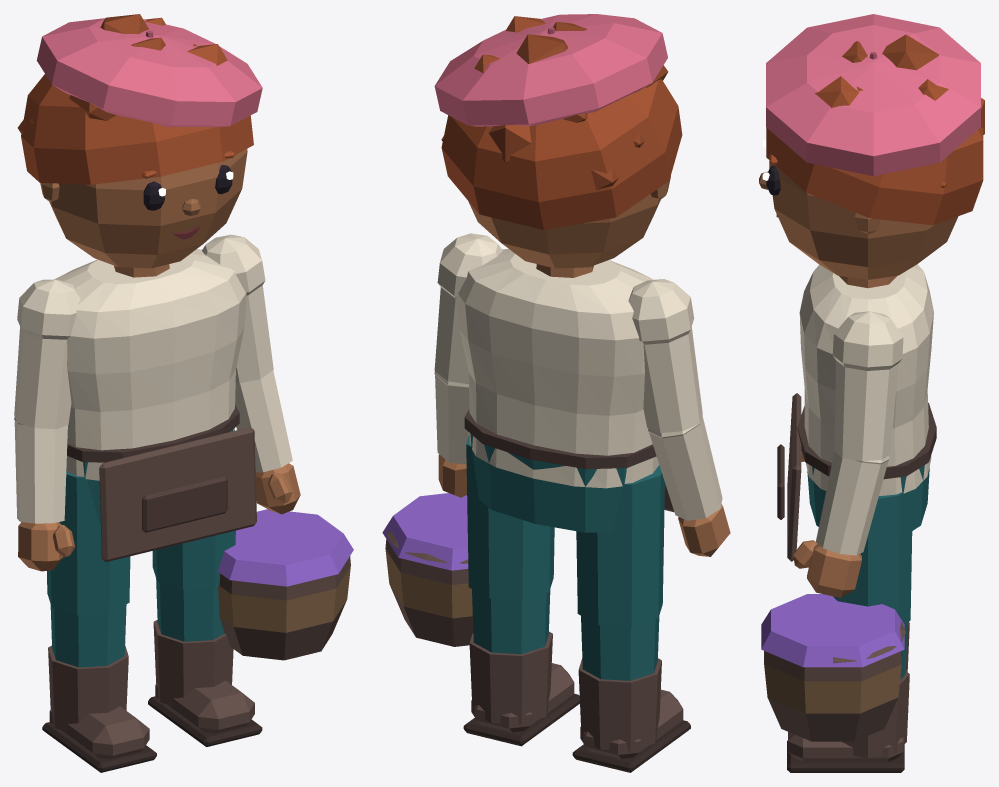
Rendered from spo-k1.glb.
3 renders of one model, left to right at view 1: azimuth 30°, elevation 25°; view 2: azimuth 150°, elevation 25°; view 3: azimuth 270°, elevation 25°, orthographic. The views are drawn at different scales.
Visible parts, largest first — view 1: torso, schürze, kopfbedeckung, gegenstand_basket, haare, kopf, arm_r, bein_r, schuh_r, schuh_l, arm_l, bein_l (+3 smaller); view 2: torso, haare, kopfbedeckung, bein_r, arm_r, bein_l, gegenstand_basket, schuh_r, schuh_l, becken, arm_l, kopf (+3 smaller); view 3: kopfbedeckung, gegenstand_basket, torso, arm_l, haare, kopf, bein_l, schuh_l, schürze, hand_l, becken, gesicht (+1 smaller).
Boxes of the visible parts, x1,y1,x2,y2 form: torso: (54,249,246,480); schürze: (67,405,256,561); kopfbedeckung: (36,18,262,127); gegenstand_basket: (218,509,353,660); haare: (17,14,253,184); kopf: (40,149,247,268); arm_r: (14,279,80,523); bein_r: (47,471,130,667); schuh_r: (42,645,156,772); schuh_l: (148,620,262,746); arm_l: (202,234,292,472); bein_l: (152,429,235,641); torso: (457,249,659,488); haare: (441,16,682,229); kopfbedeckung: (434,14,667,126); bein_r: (576,465,664,680); arm_r: (628,279,722,520); bein_l: (466,434,554,654); gegenstand_basket: (382,493,473,646); schuh_r: (572,658,690,772); schuh_l: (463,631,579,746); becken: (470,434,626,532); arm_l: (434,233,502,464); kopf: (468,176,670,268); kopfbedeckung: (766,14,980,176); gegenstand_basket: (761,594,905,741); torso: (799,264,933,495); arm_l: (816,311,903,555); haare: (766,34,984,225); kopf: (769,163,958,279); bein_l: (833,492,912,679); schuh_l: (787,670,909,772); schürze: (777,393,936,561); hand_l: (793,540,861,597); becken: (807,465,929,534); gesicht: (759,139,780,217).
Size of the model in its own units: 0.0118 by 0.0246 by 0.00727.
